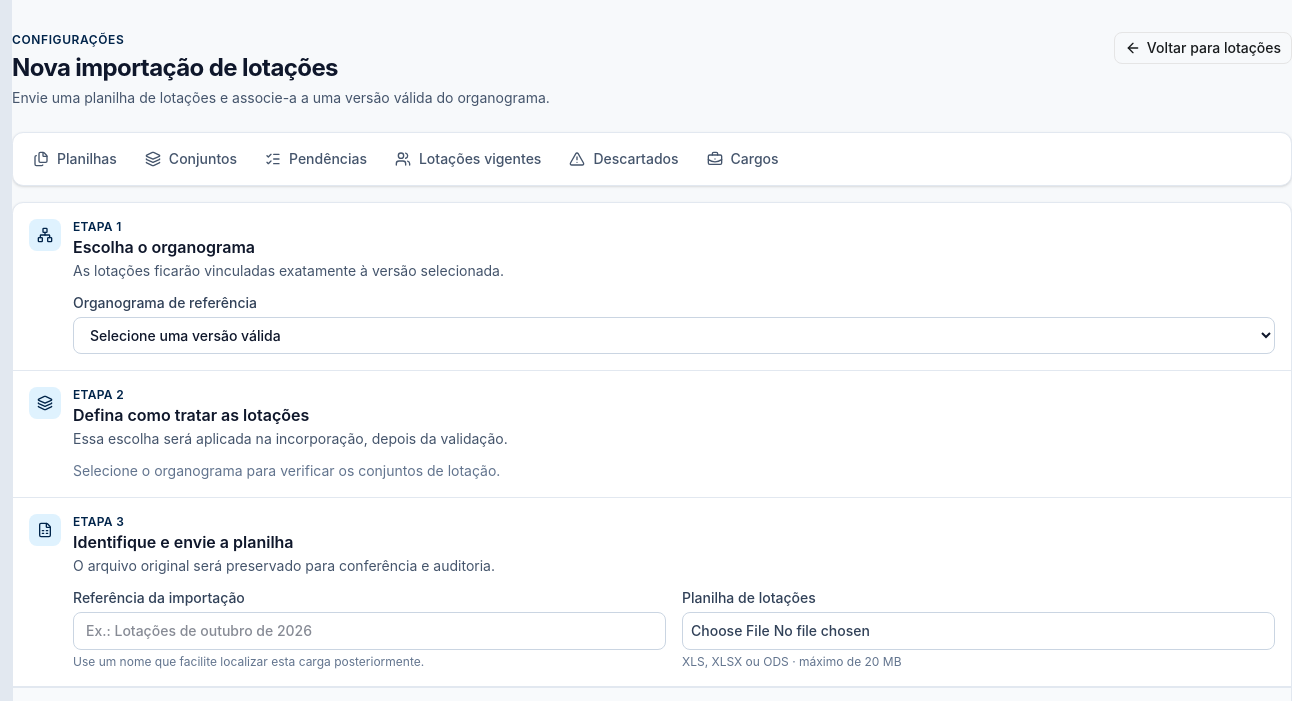
nova importação de lotações › permite continuar um conjunto aberto sem alterar o conjunto ativo
Select "Estrutura oficial 2026 · Incorporada · 42 itens · sem alterações manuais · 01/10" in the dropdown labelled "Organograma de referência" at (674, 336), box 73,317 -> 1275,354
(page scrolled)
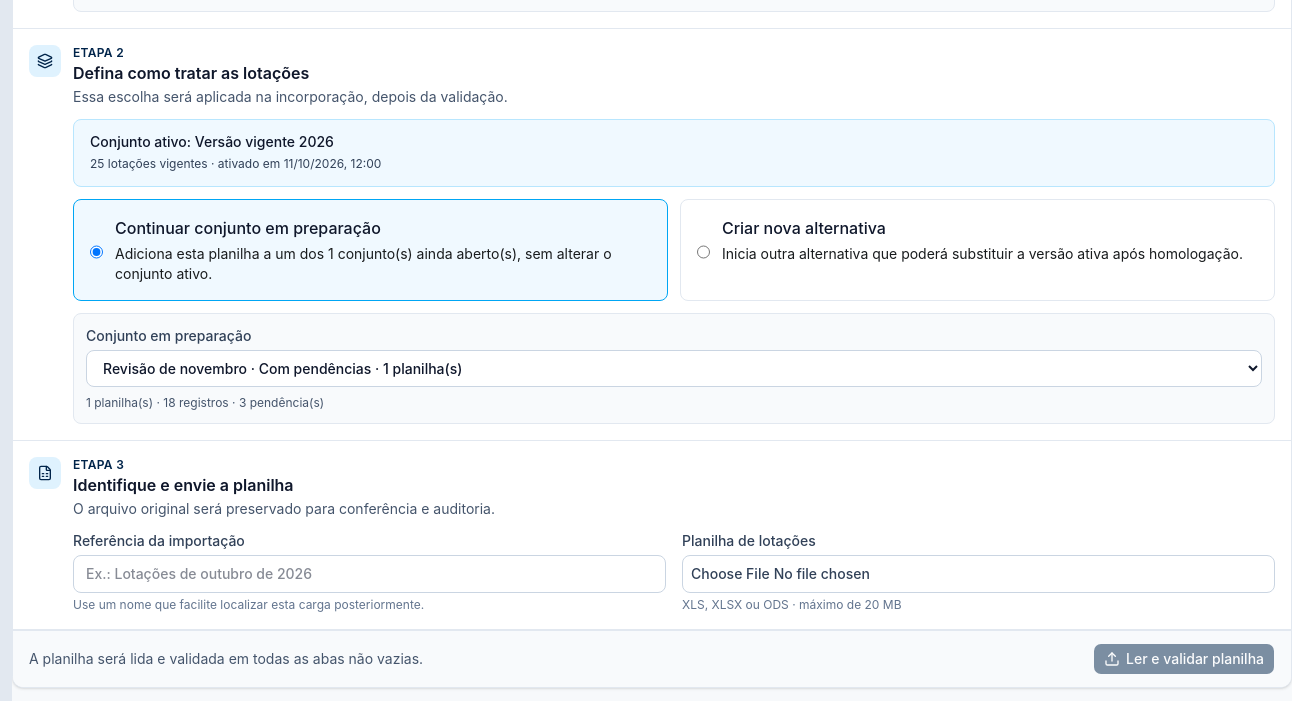
Result: the text "25 lotações vigentes · ativado em 11/10/2026, 12:00" is shown at 90,156 -> 381,171
Result: the radio button labelled "Continuar conjunto em preparação" is checked at 90,220 -> 103,284
Result: the radio button labelled "Criar nova alternativa" is shown at 697,220 -> 710,284
